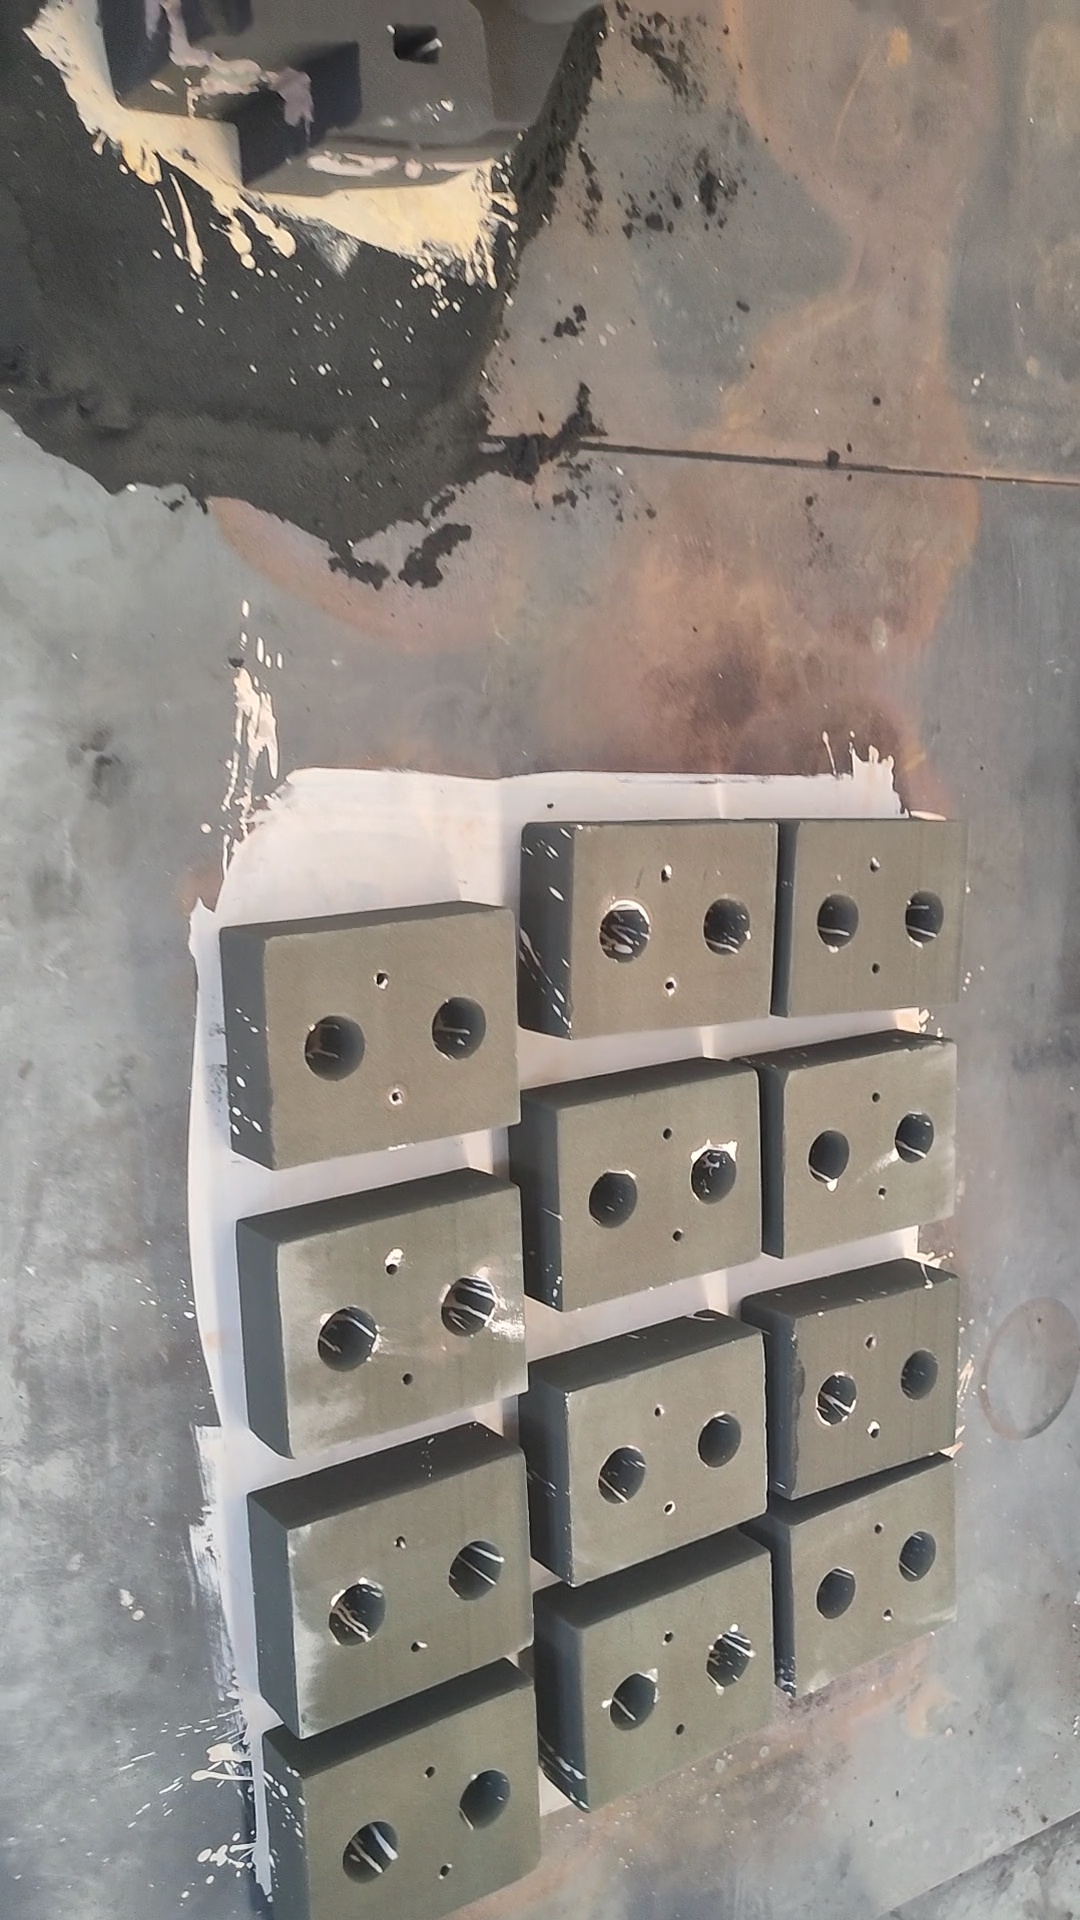pouring hole: (315, 1305, 376, 1373), (305, 1014, 364, 1083), (342, 1818, 398, 1884), (328, 1582, 386, 1646), (440, 1274, 496, 1336), (448, 1538, 502, 1601), (433, 998, 487, 1059), (459, 1770, 512, 1829), (601, 899, 650, 963), (588, 1170, 638, 1229), (597, 1444, 646, 1505), (609, 1669, 657, 1731), (703, 898, 750, 955), (691, 1149, 737, 1204), (698, 1412, 742, 1468), (705, 1631, 750, 1687), (807, 1130, 851, 1184), (818, 893, 858, 948), (818, 1371, 857, 1427), (815, 1567, 856, 1619), (906, 890, 945, 943), (895, 1110, 934, 1164), (899, 1531, 938, 1581), (901, 1349, 938, 1400)
